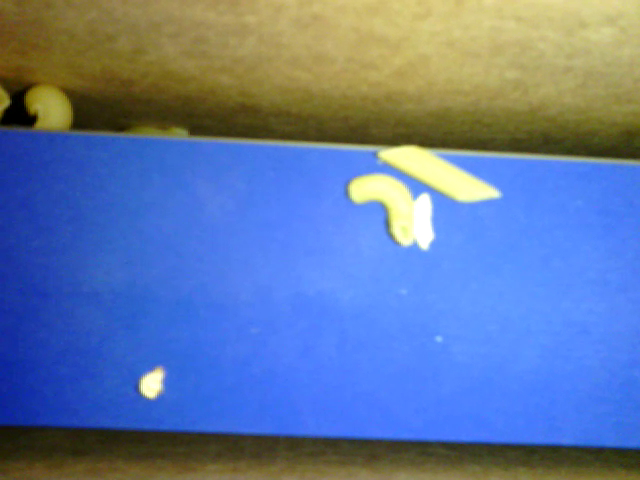elbow: (346, 170, 418, 248)
penne: (375, 140, 505, 207)
shell: (19, 83, 75, 132)
